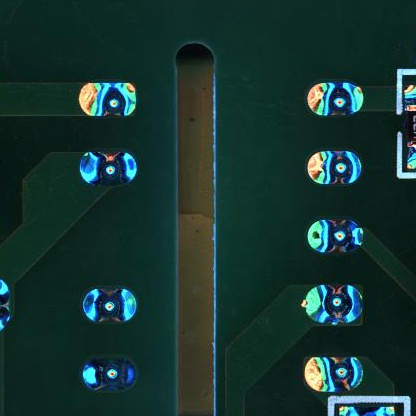spot: (300, 285, 369, 324), (302, 352, 363, 393), (79, 148, 141, 187), (303, 217, 369, 253), (305, 149, 365, 188), (77, 80, 140, 117), (82, 355, 140, 393), (80, 287, 140, 323), (304, 83, 367, 117)
